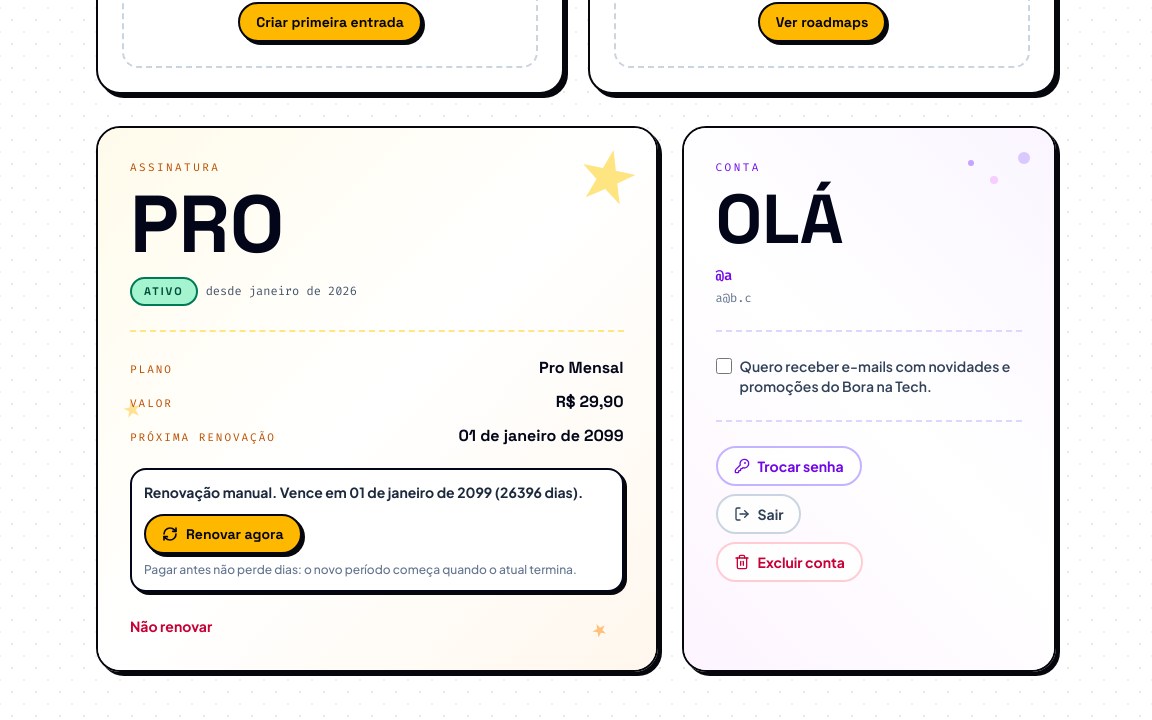
Test: renovacao com Pix pendente › o 409 de novo logo depois de cancelar vira aviso, sem reabrir o dialogo
(page scrolled)
Click the button "Renovar agora". click: {"x": 223, "y": 534}
box: top-left (144, 514), bottom-right (302, 554)
(page scrolled)
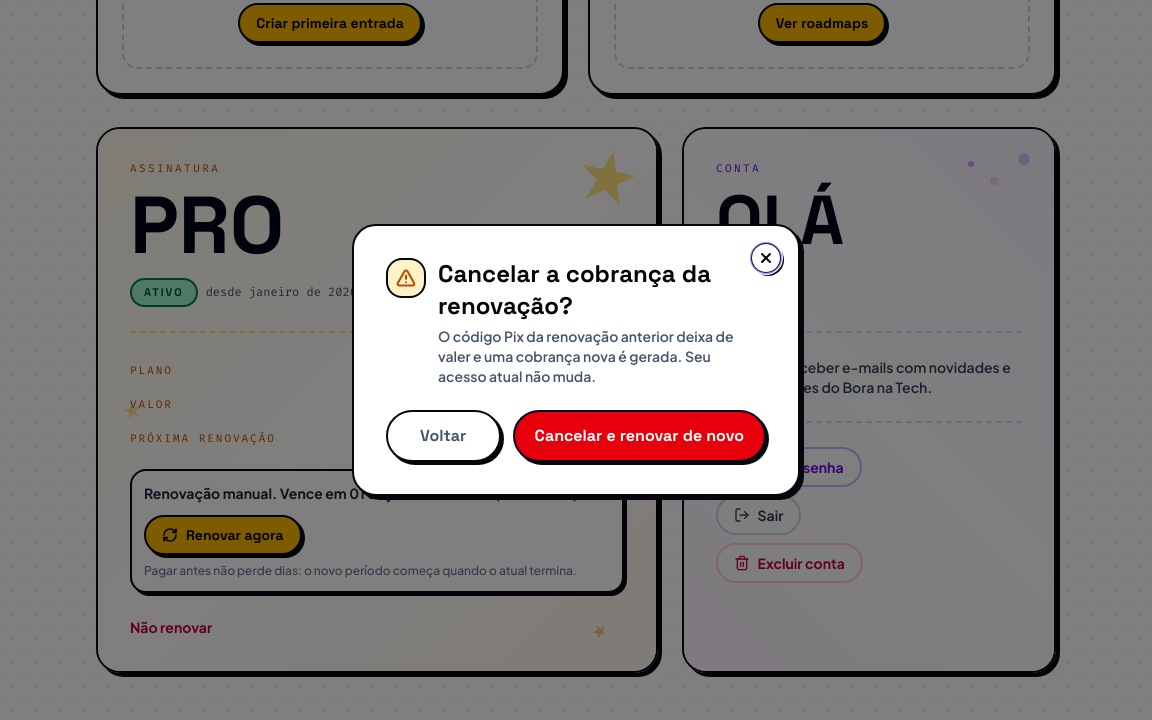
Expected: the heading "Cancelar a cobrança da renovação?" is shown, top-left (438, 258), bottom-right (734, 322)
Click the button "Cancelar e renovar de novo". click: {"x": 639, "y": 436}
box: top-left (513, 410), bottom-right (766, 462)
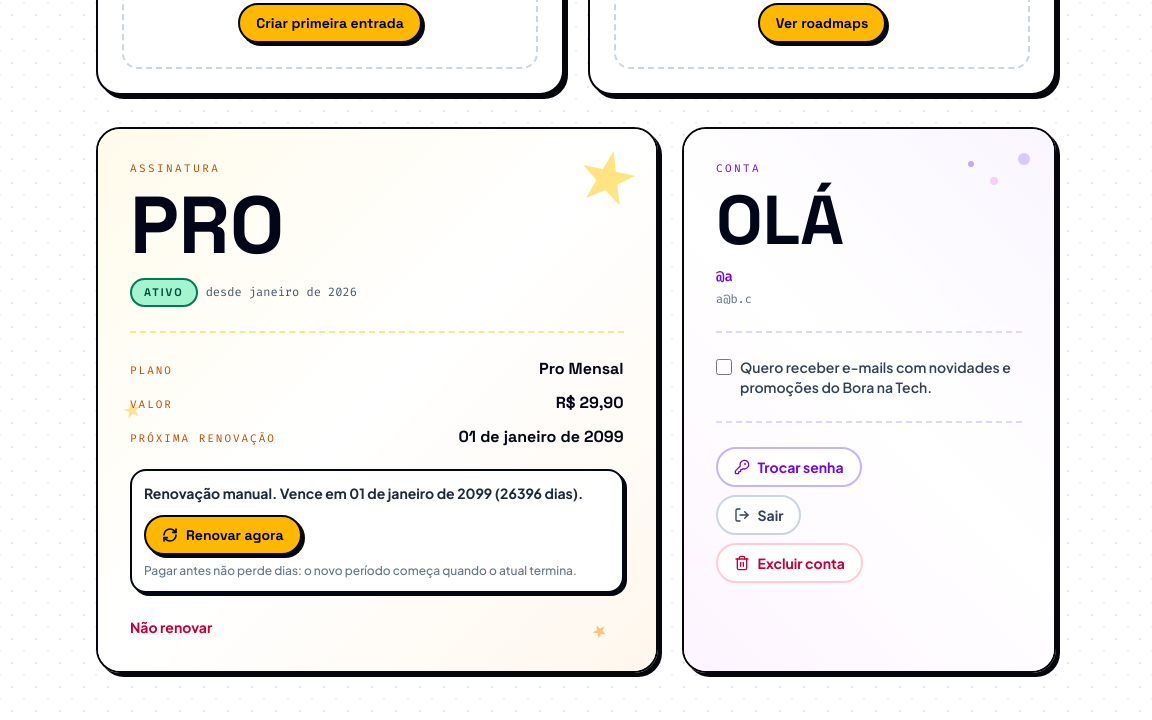
Expected: the heading "Cancelar a cobrança da renovação?" is gone
